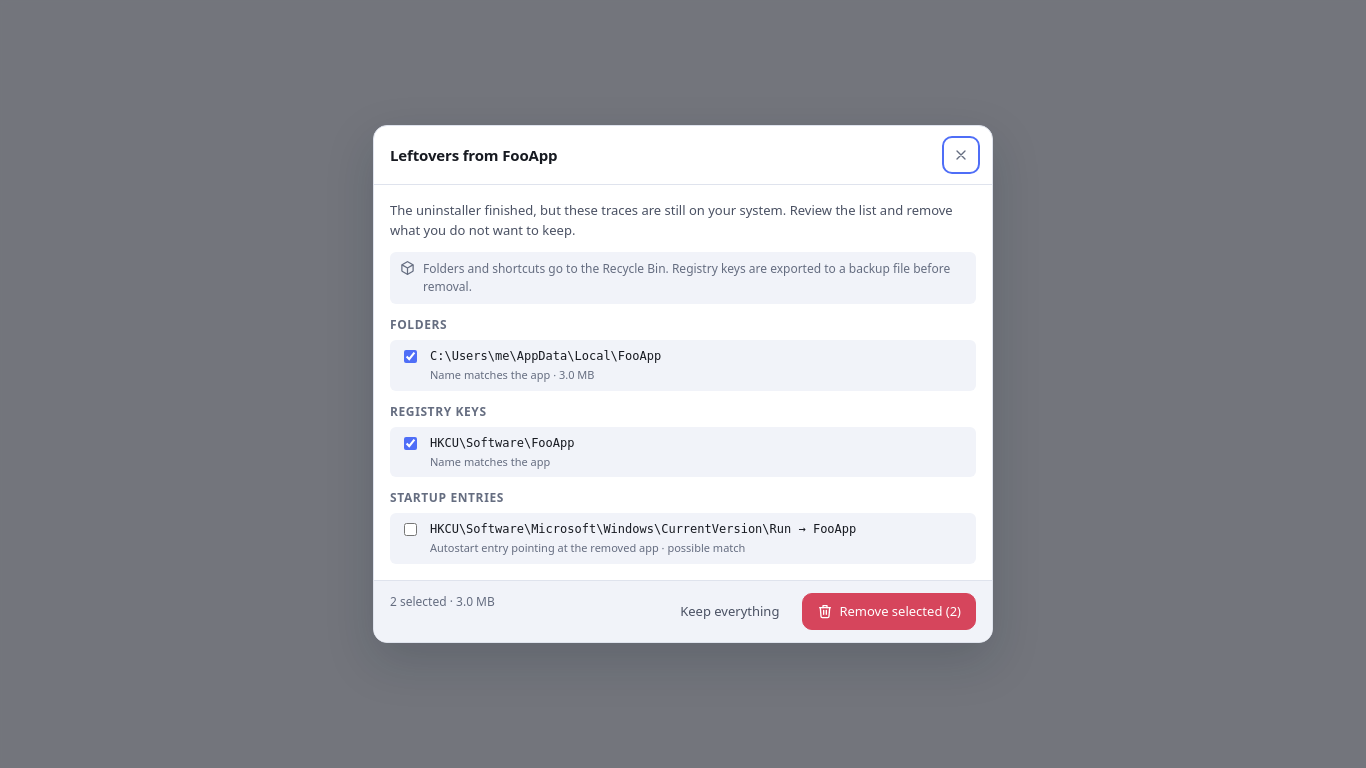
Test: CleanupDialog › stays open, shows the failure, and requests elevation when needed
Click the button "Remove selected (2)". click: (889, 611)
box: [802,592,976,630]
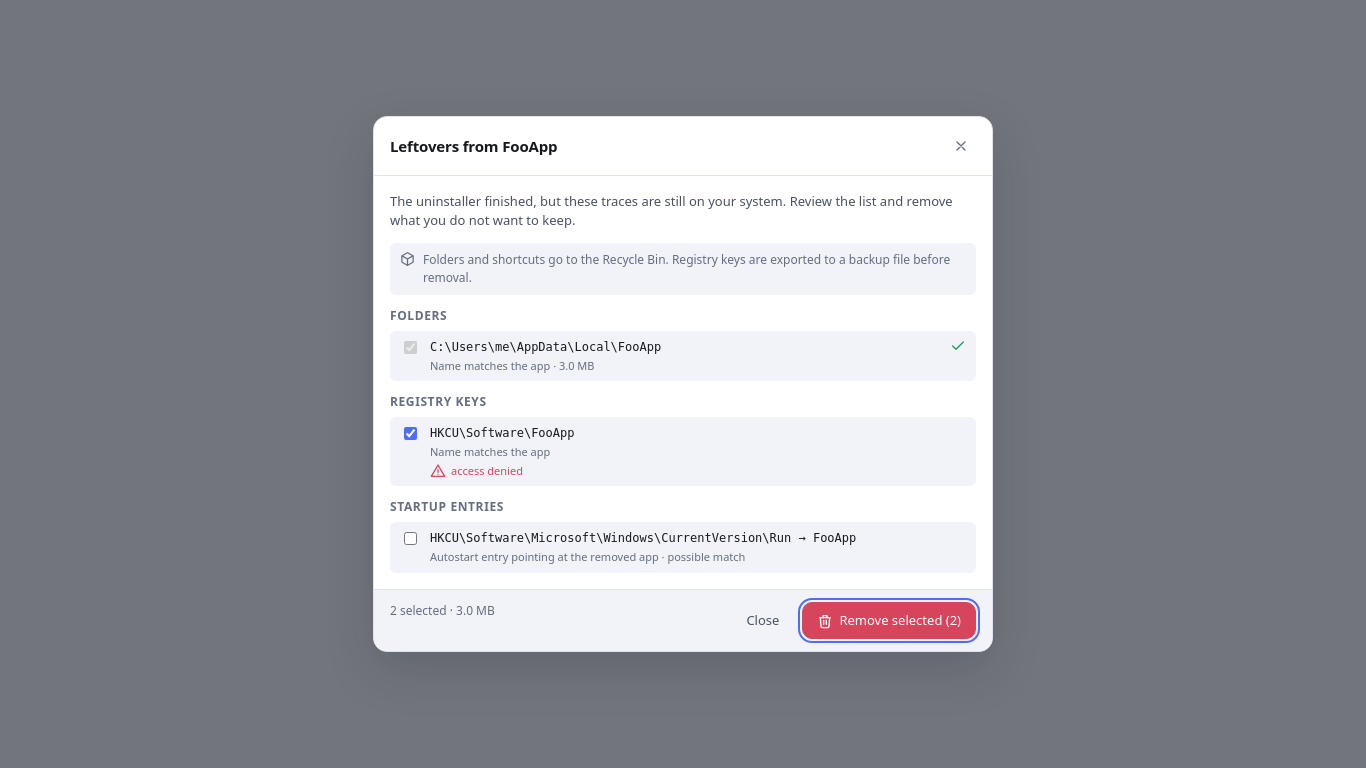
Expected: the text "access denied" is shown, [430,463,523,479]
